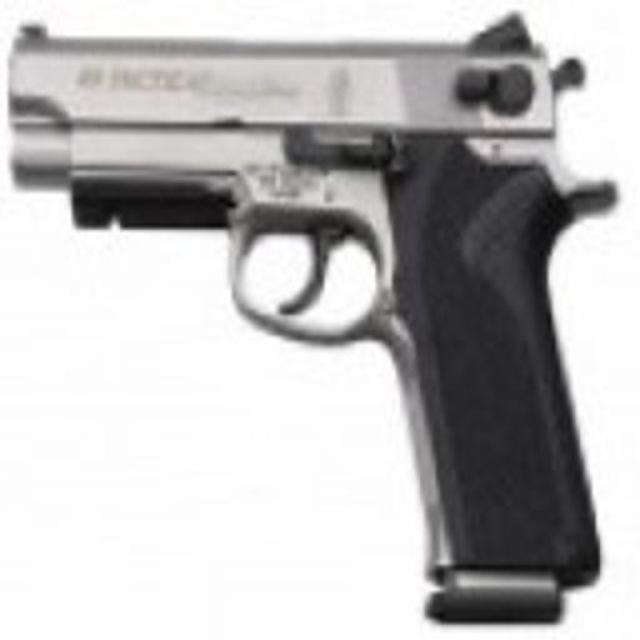pistol: (15, 10, 604, 629)
